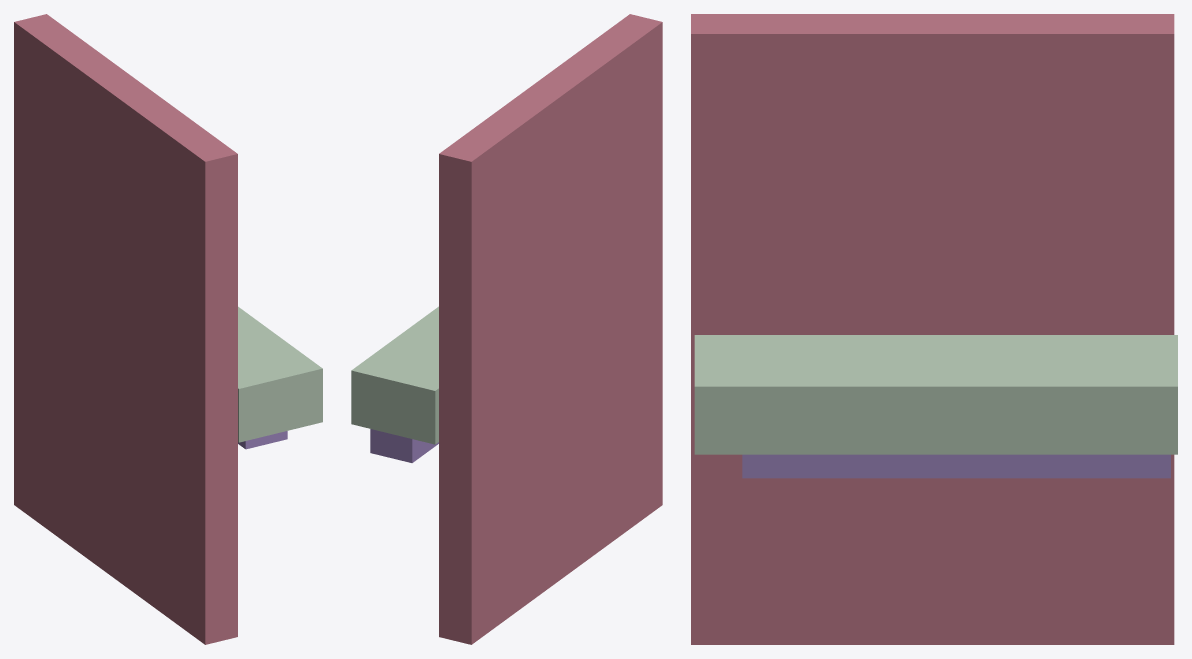
File: 199533_pred.glb
3 views of the same model, side by side, from view 1: azimuth 30°, elevation 25°; view 2: azimuth 150°, elevation 25°; view 3: azimuth 270°, elevation 25° (orthographic). The views are drawn at different scales.
Parts seen in each view (by area): view 1: world; view 2: world; view 3: world.
Boxes of the visible parts, x1,y1,x2,y2 form: world: (14,14,322,644); world: (351,14,662,644); world: (691,14,1177,644).
Bounding box in the file's own units: 2.55 × 9.9 × 7.15.
